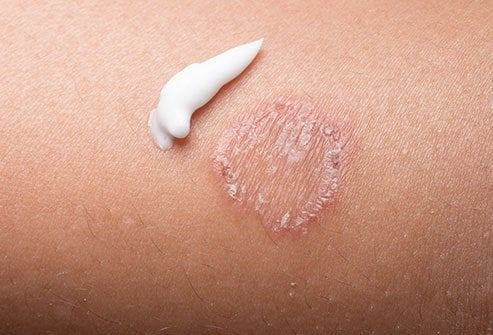Ringworm: (89, 67, 360, 149)
